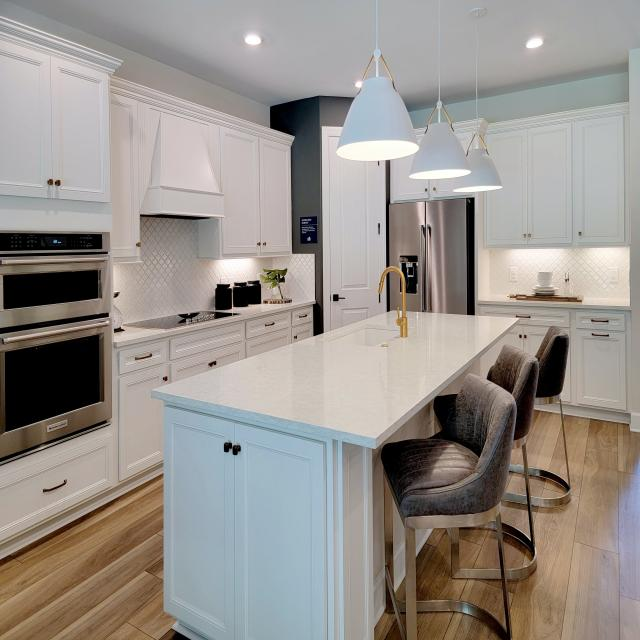Appliance_Fridge: (389, 198, 475, 315), (387, 272, 402, 310)
Appliance_Oven: (0, 317, 113, 466), (0, 231, 110, 329)
Appliance_Sink: (336, 266, 408, 347)
Appliance_Stove: (124, 311, 233, 329)
Cabinet_Shaker: (0, 308, 314, 560), (162, 405, 328, 640), (0, 35, 159, 247), (476, 104, 631, 250), (480, 304, 630, 409), (212, 132, 290, 257), (391, 154, 443, 201)
Countertop_Granite: (152, 311, 521, 449)
Countertop_Solid_Surface: (110, 301, 314, 343), (481, 297, 628, 307)
